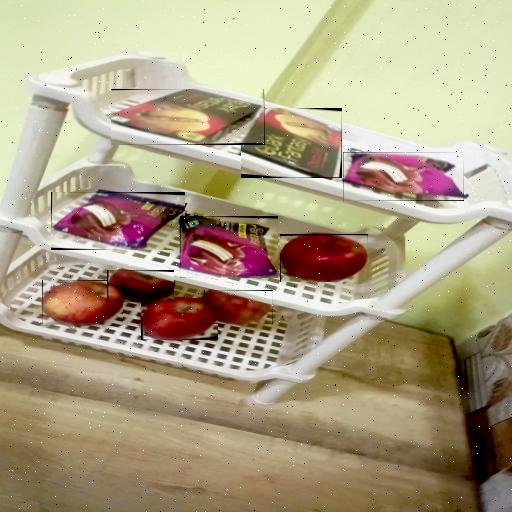Apple: (280, 234, 368, 282), (42, 280, 123, 326), (141, 298, 218, 340), (204, 290, 273, 324), (107, 270, 174, 302)
Choco Fills: (112, 89, 266, 145), (241, 108, 342, 178)
Choco Pie: (51, 192, 185, 250), (180, 216, 278, 278), (343, 152, 464, 201)
